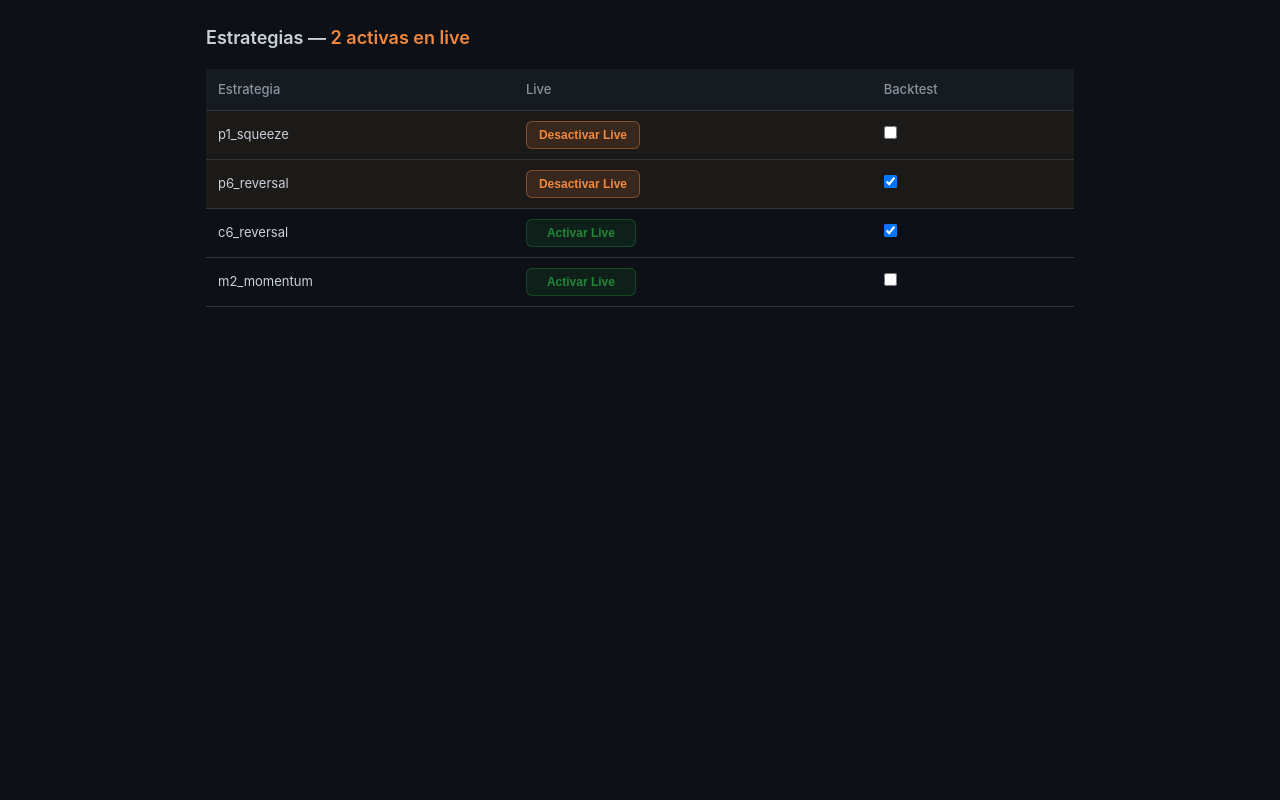
Scenario: StrategiesPage › Live toggle behavior › toggle live OFF→ON opens confirm dialog
Click the button with test id "strategy-live-c6_reversal" at x=581, y=233, box [526,219,636,247]
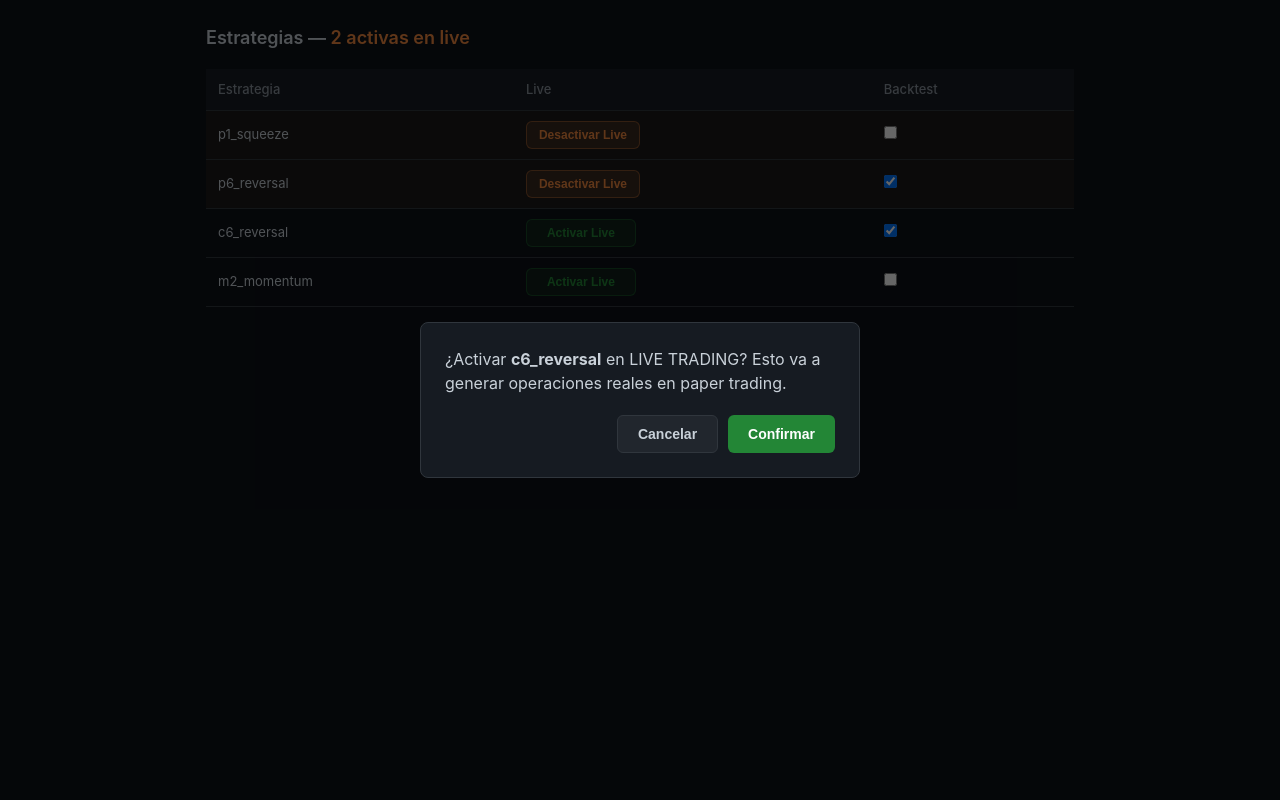
Expected: the dialog is shown, [420,322,860,478]
